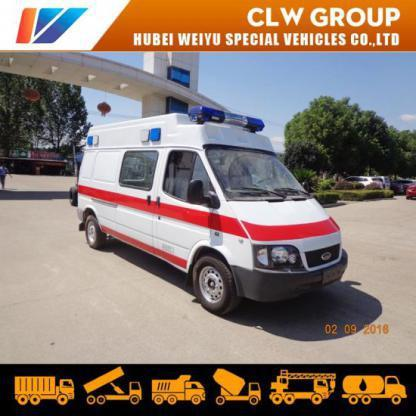ambulance_off: (74, 105, 347, 316)
